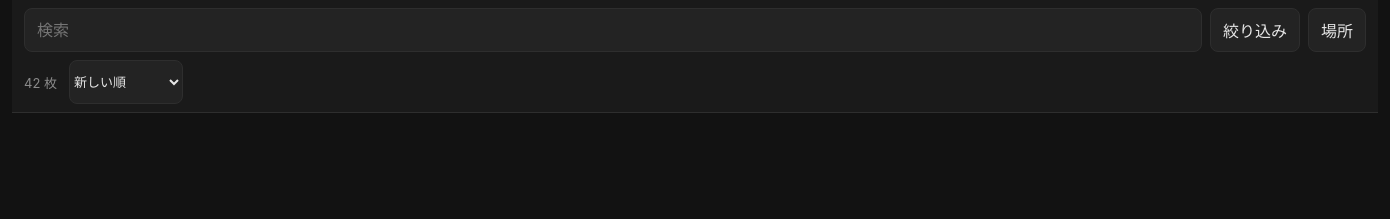
Test: FilterBar › Escape で履歴が閉じる
Focus the search field with placeholder "検索" at (613, 30), box left=24, top=8, right=1202, bottom=52
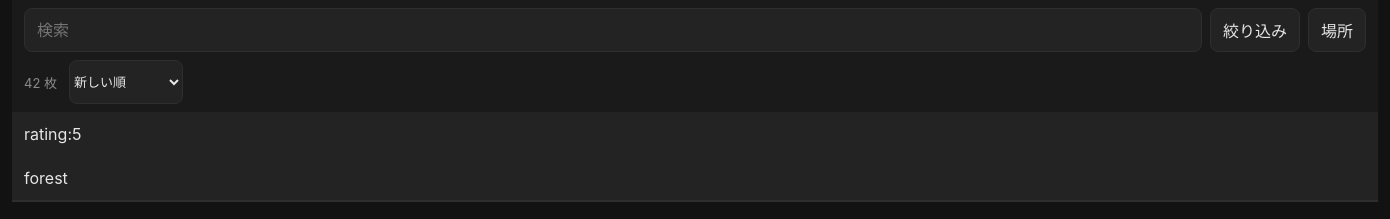
Check: the button "forest" is shown, box left=12, top=156, right=1378, bottom=200
Press Escape in the search field with placeholder "検索", box left=24, top=8, right=1202, bottom=52
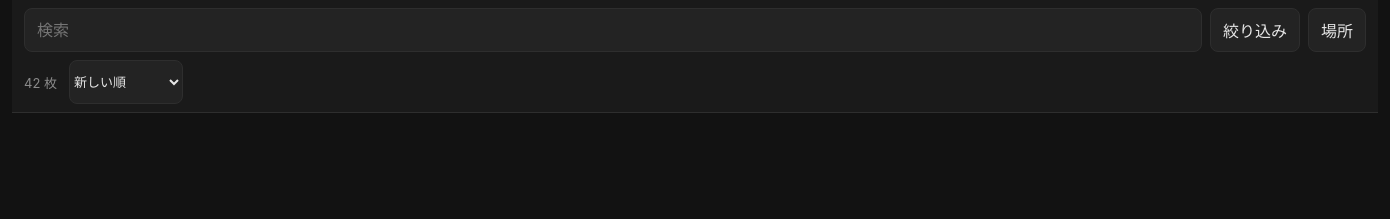
Check: the button "forest" is gone
